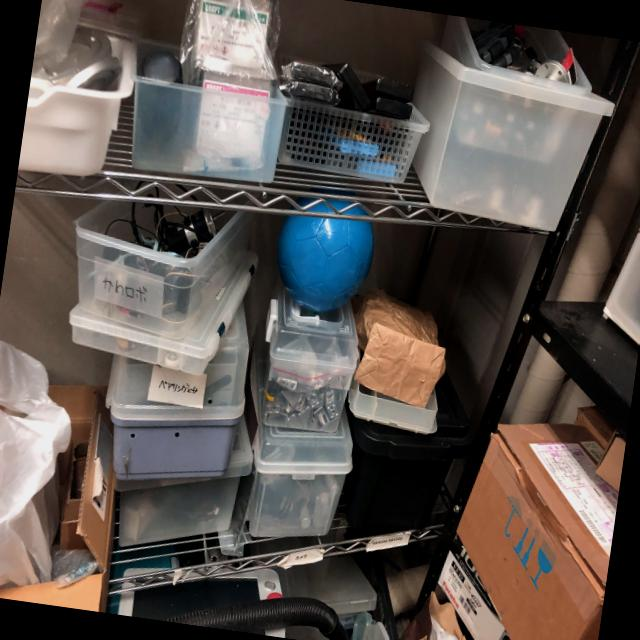blue_ball: (278, 200, 376, 322)
